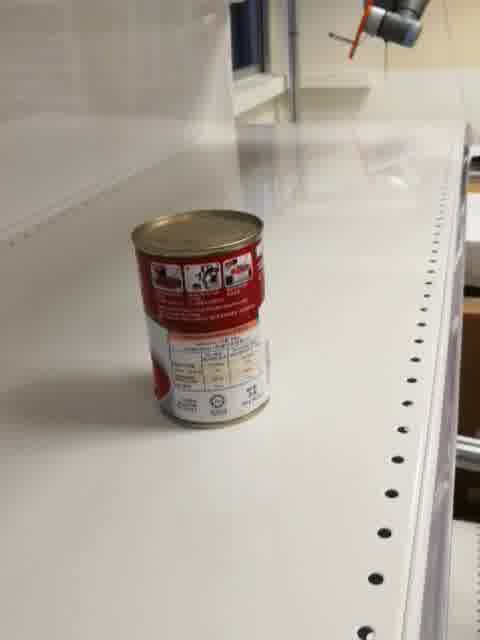tomatosoup: (130, 206, 273, 433)
